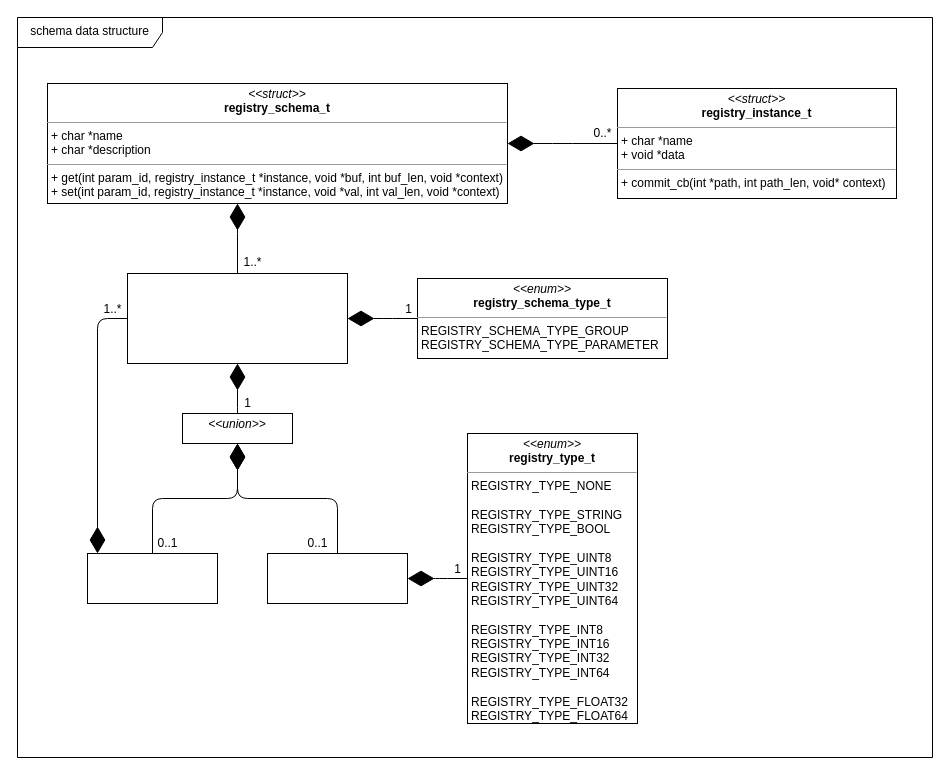
Some shapes in this 950 by 775 pixel diagram are drawn without their labels. The centre of each missing label's shape, as x and y in pixels:
"<<struct>> registry_group_t" belongs at (152,578).
"<<struct>> registry_parameter_t" belongs at (337,578).
"<<struct>> registry_schema_item_t + int id + char *name + char *description" belongs at (237,318).
